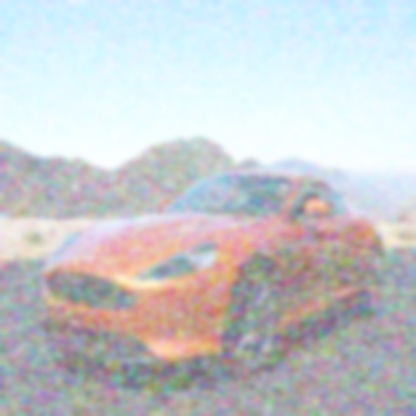Vehicle: (42, 164, 387, 387)
